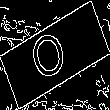O_SE: (32, 22, 78, 88)
